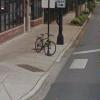Bicycle: (31, 27, 58, 56)
